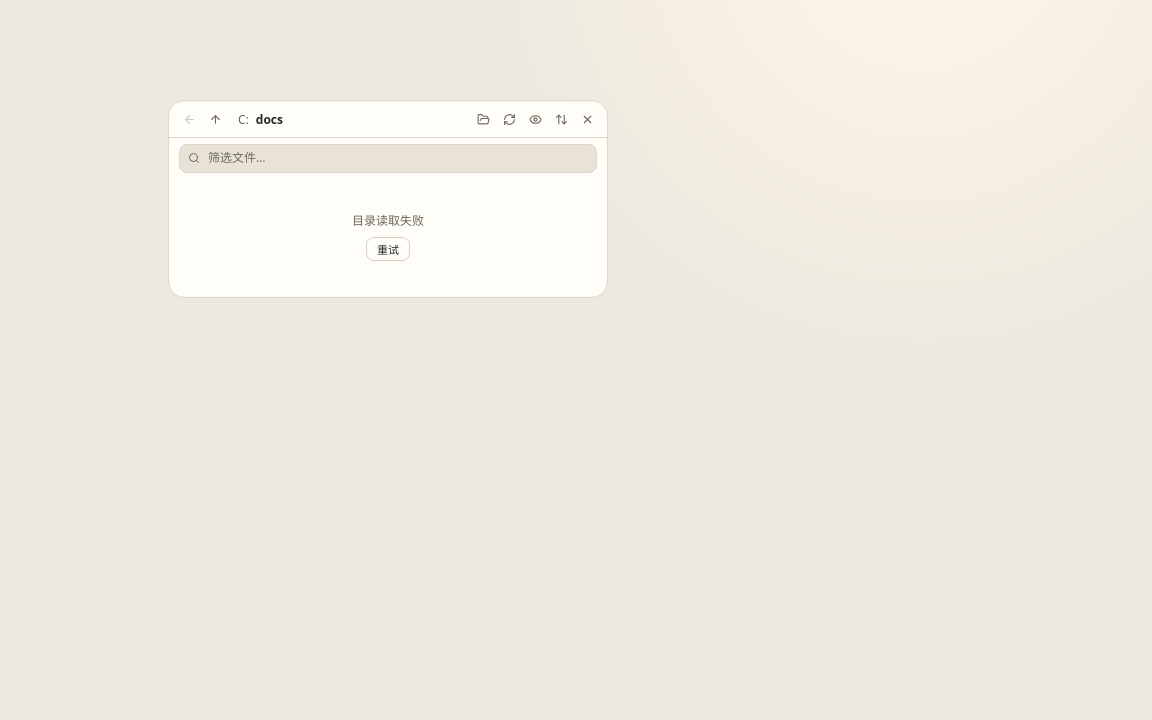
FolderPopup 组件 › 目录读取失败：错误态 + 重试重拉
This screenshot has width=1152, height=720.
Check: the text "目录读取失败" is shown, box x1=352 y1=211 x2=424 y2=229
Note: 头部还有一个同名的「重试」（刷新）按钮：错误态里的那个在网格之后。
Click the button "重试" at x=388, y=249, box x1=366 y1=237 x2=410 y2=261
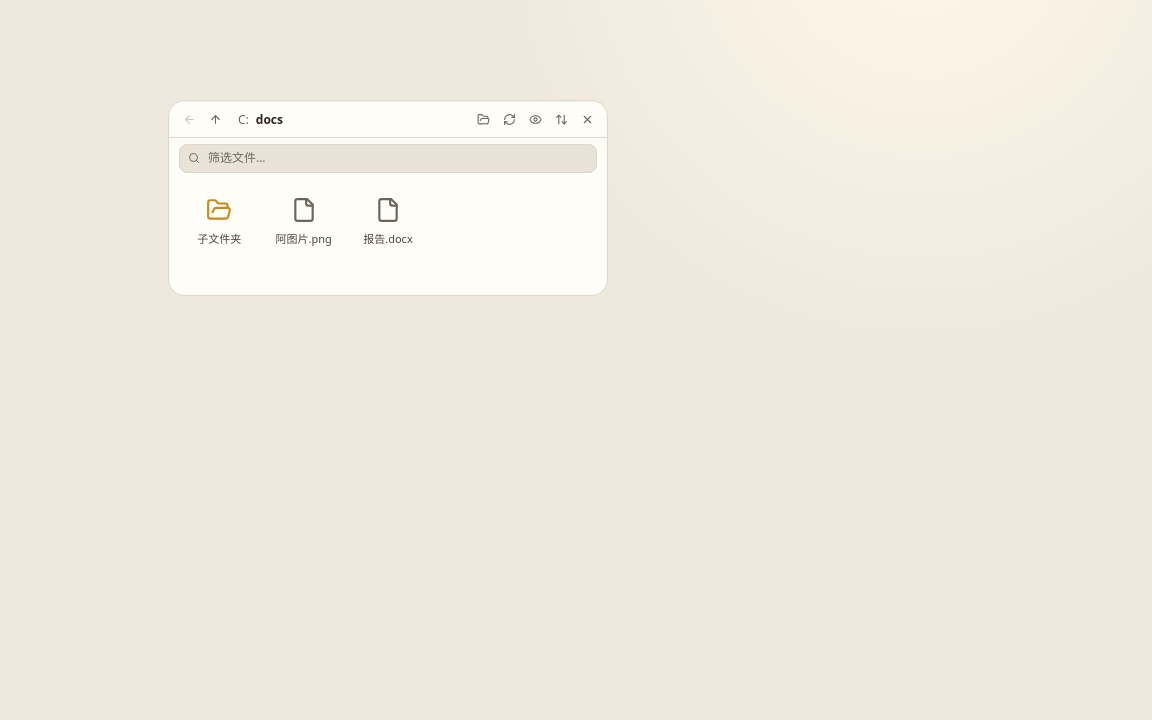
Check: the text "子文件夹" is shown, box x1=197 y1=232 x2=241 y2=246
